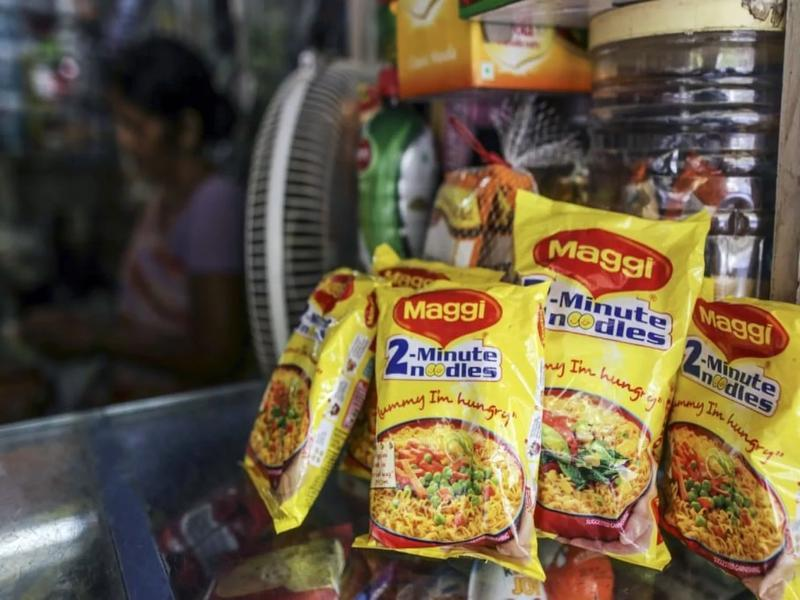maggi-small: (511, 190, 695, 574), (376, 278, 549, 578), (675, 292, 800, 595)
